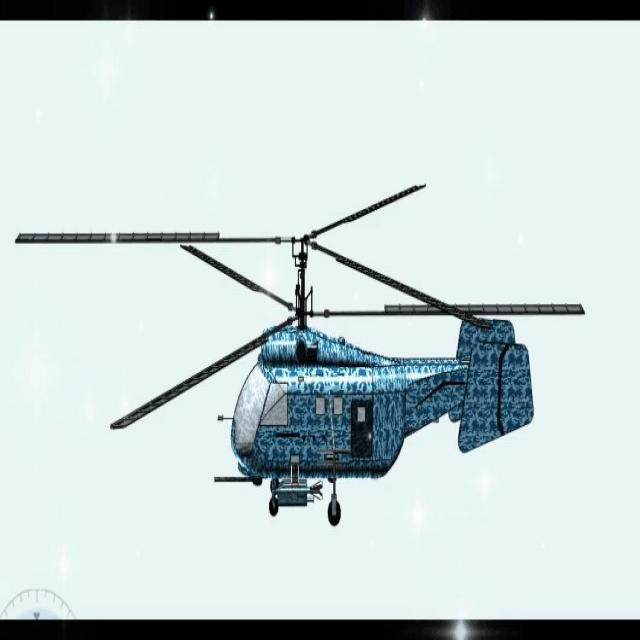MIL_HELO: (11, 184, 593, 523)
